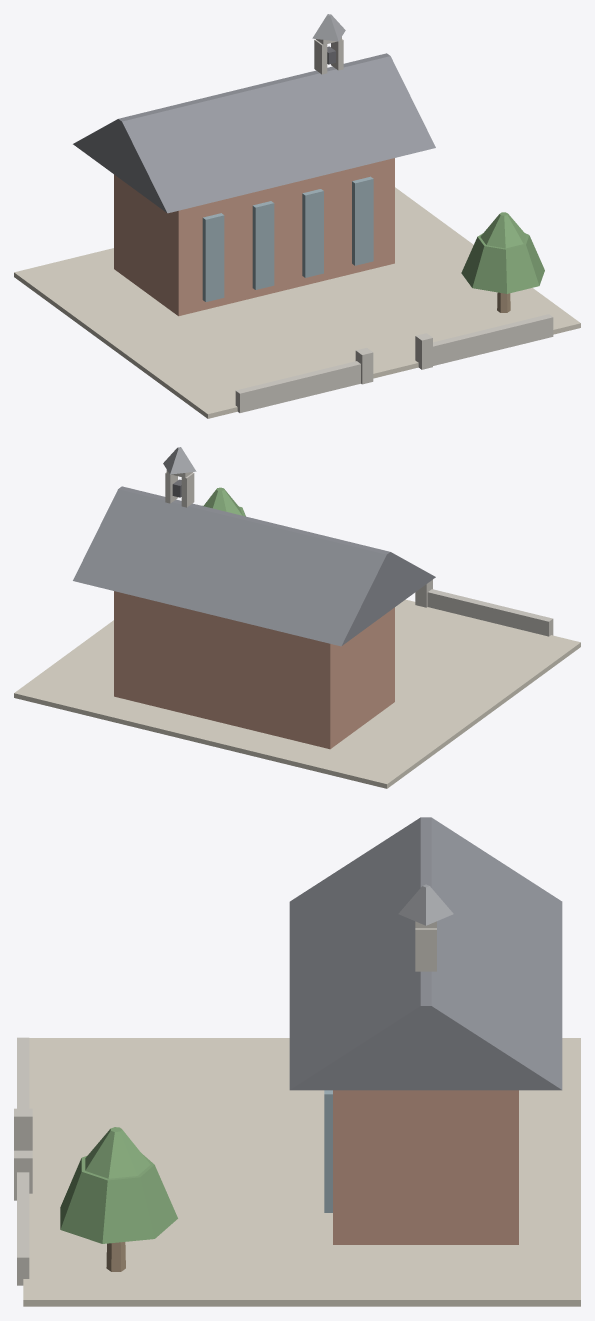
The model's file is plc_village_school.glb.
3 renders of one model, top to bottom at view 1: azimuth 30°, elevation 25°; view 2: azimuth 150°, elevation 25°; view 3: azimuth 270°, elevation 25°, orthographic. The views are drawn at different scales.
Parts seen in each view (by area): view 1: plc_village_school; view 2: plc_village_school; view 3: plc_village_school.
Boxes of the visible parts, x1,y1,x2,y2 form: plc_village_school: (14,14,580,418); plc_village_school: (14,447,580,788); plc_village_school: (14,817,580,1306).
Bounding box in the file's own units: 1.7 × 1.04 × 1.56.
